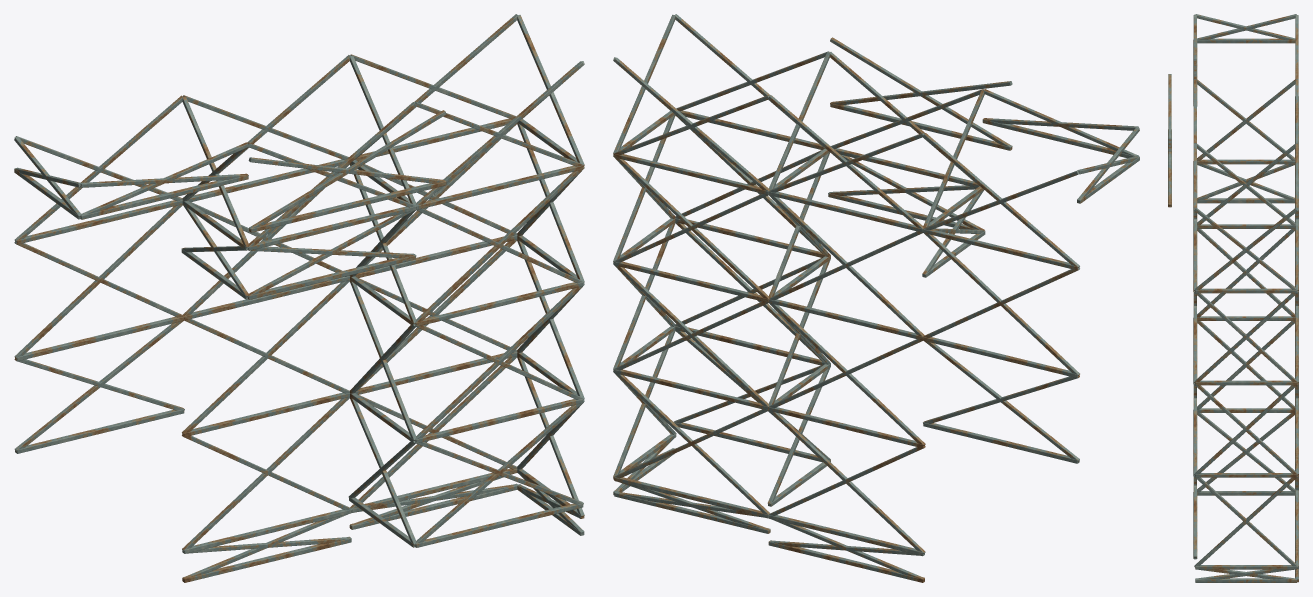
Rendered from Pile_Cross_Braces.glb.
The picture shows the model from 3 angles, left to right: view 1: azimuth 30°, elevation 25°; view 2: azimuth 150°, elevation 25°; view 3: azimuth 270°, elevation 25°; orthographic projection. The views are drawn at different scales.
Visible parts, largest first — view 1: Pile_Cross_Braces; view 2: Pile_Cross_Braces; view 3: Pile_Cross_Braces.
Part boxes in pixels (x1,y1,x2,y2): Pile_Cross_Braces: (14, 14, 584, 582); Pile_Cross_Braces: (613, 14, 1139, 582); Pile_Cross_Braces: (1168, 14, 1298, 582).
Size of the model in its own units: 18.15 by 16.68 by 5.15.
1 material, 1 textured.
